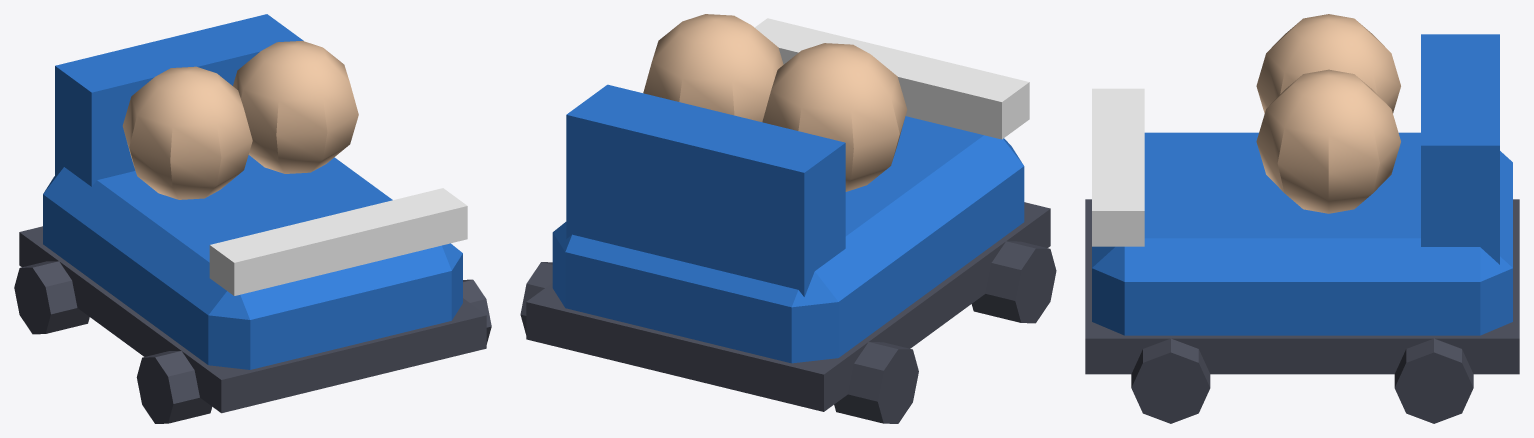
Rendered from roller-coaster.car-1.glb.
The picture shows the model from 3 angles, left to right: view 1: azimuth 30°, elevation 25°; view 2: azimuth 150°, elevation 25°; view 3: azimuth 270°, elevation 25°; orthographic projection. The views are drawn at different scales.
Parts seen in each view (by area): view 1: model; view 2: model; view 3: model.
Part boxes in pixels (<box>): model: <box>14,14,491,423</box>; model: <box>520,14,1056,423</box>; model: <box>1085,14,1519,423</box>.
Size of the model in its own units: 0.3 by 0.245 by 0.33.
Materials: 1 (1 with a texture image).
